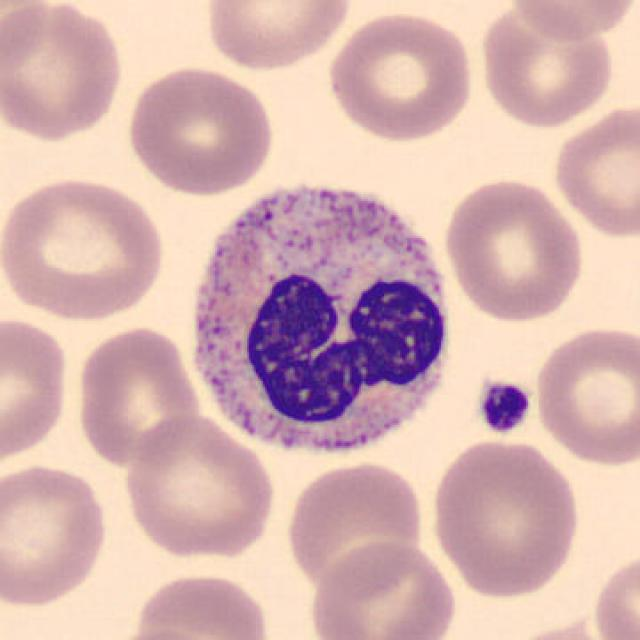Neutrophil: (176, 164, 464, 474)
Platelets: (473, 376, 535, 437)
RBC: (427, 436, 583, 601), (0, 172, 169, 322), (119, 412, 279, 560), (441, 174, 587, 324), (324, 7, 478, 145), (123, 61, 277, 198), (281, 458, 428, 594), (71, 322, 203, 470), (0, 0, 128, 145), (476, 4, 618, 130), (0, 460, 112, 610), (304, 536, 460, 640), (530, 321, 638, 469), (548, 100, 638, 240), (0, 312, 73, 469), (201, 0, 355, 74), (128, 569, 276, 640), (504, 0, 638, 42), (588, 548, 638, 640), (496, 617, 622, 640), (100, 626, 234, 640)
